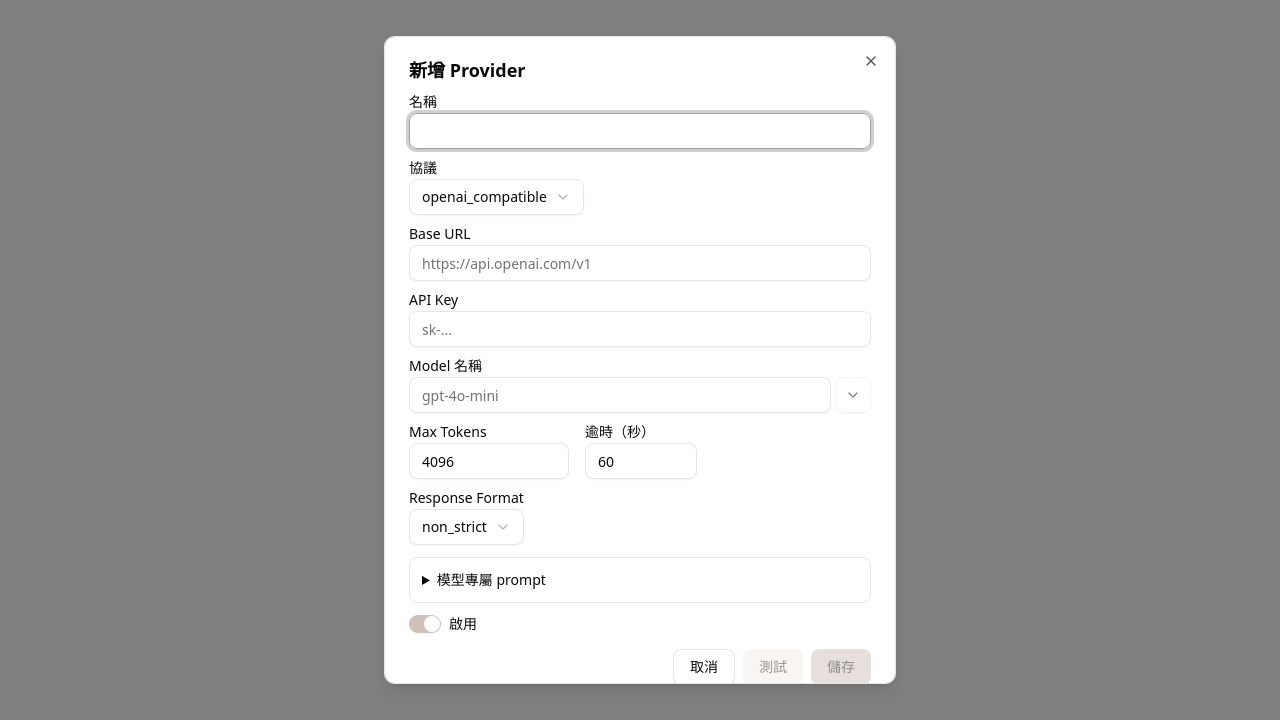
Scenario: AiProviderEditDialog › shows why the model list could not be loaded
Type "https://api.example.test/v1" into the field with placeholder "https://api.openai.com/v1".
click(640, 263); type("https://api.example.test/v1")  # box [409, 245, 871, 281]
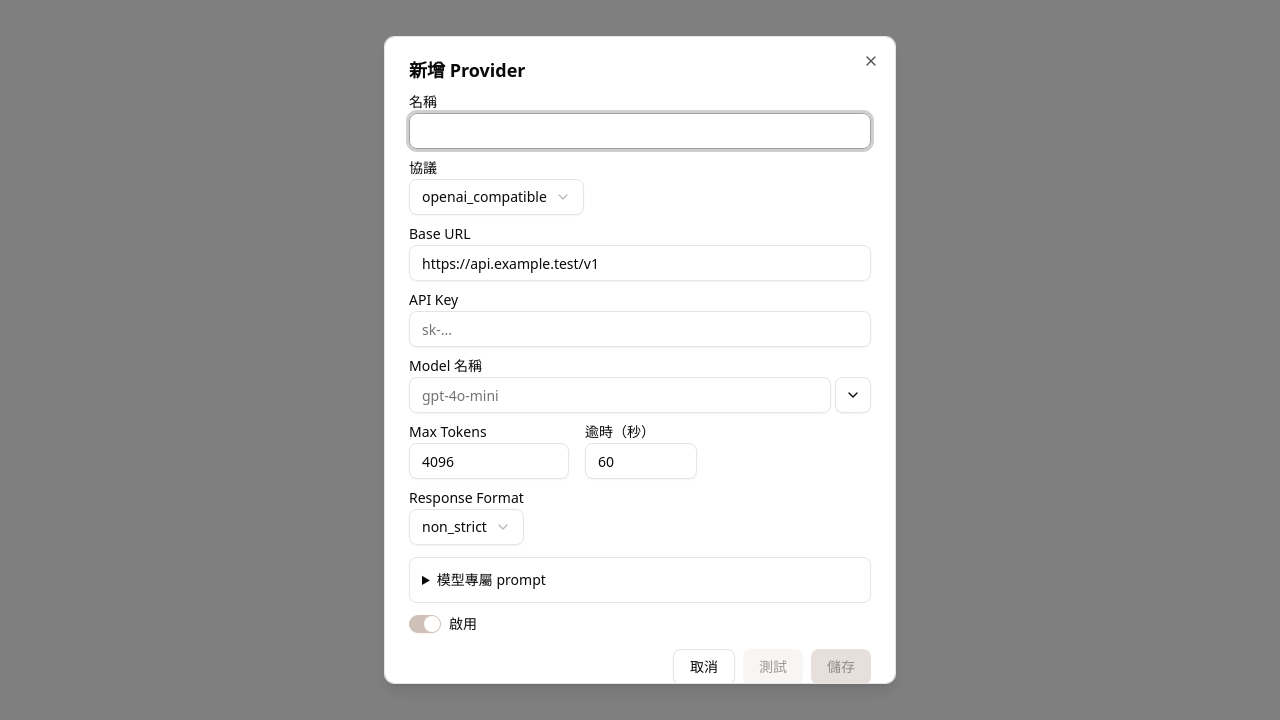
Press Enter in the button named "選擇模型", box [835, 377, 871, 413]
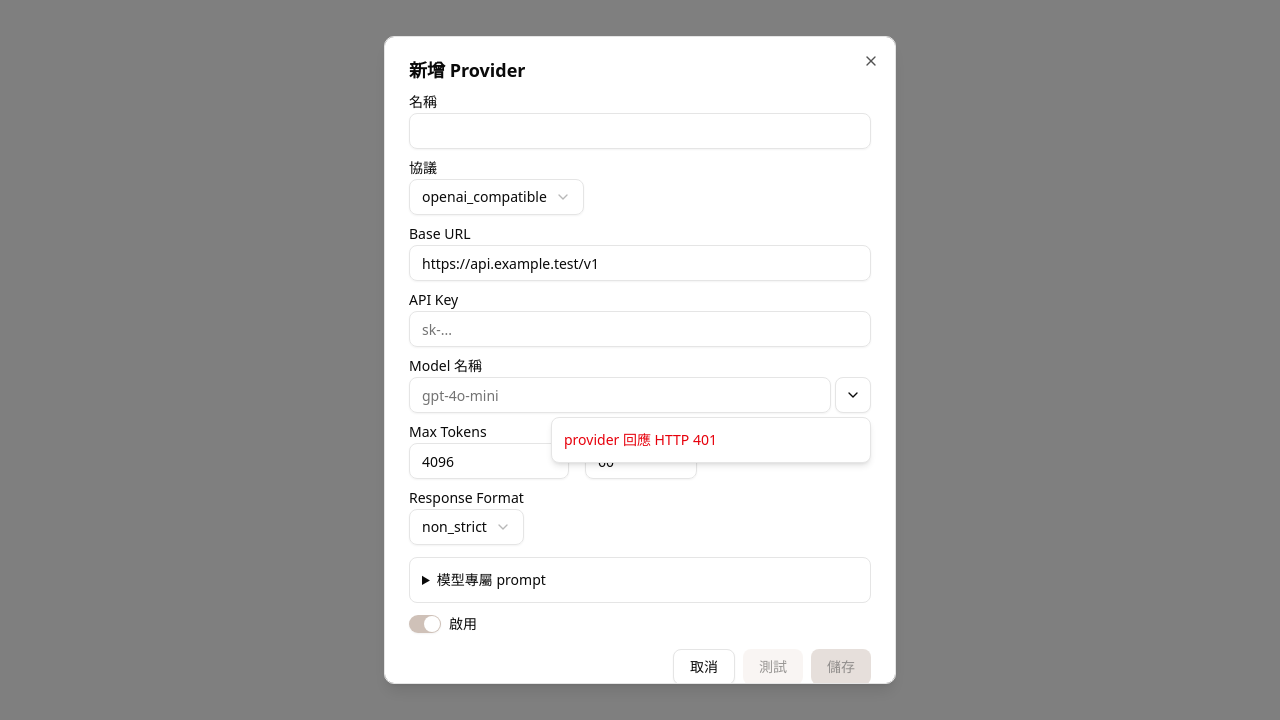
Check: the text "provider 回應 HTTP 401" is shown, box [564, 430, 717, 449]
